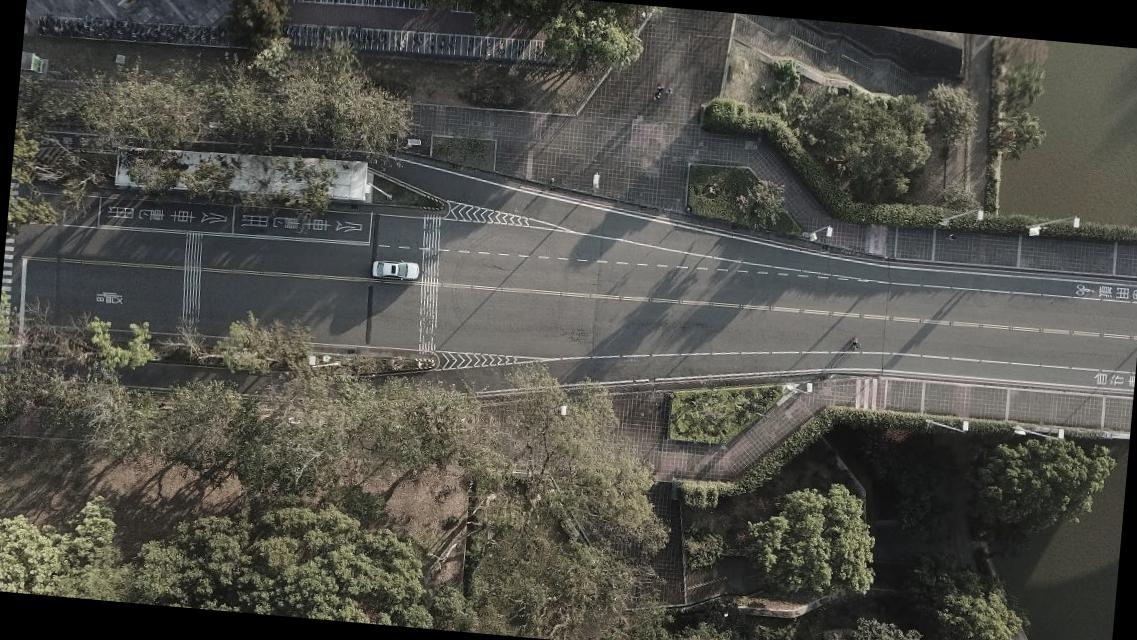vehicle: (368, 258, 420, 282)
